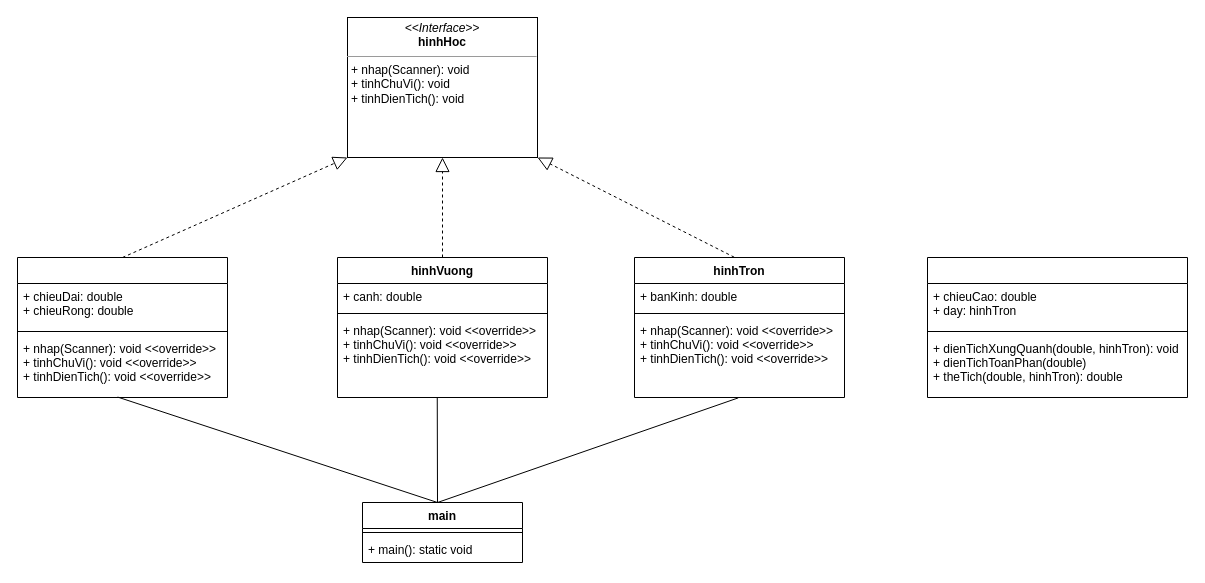
Image size: 1205x583. Some labels were removed from this diagram. Here are the shapes that lost their labels. From the top down, the box of each, then its label:
(16, 256, 228, 398): hinhChuNhat
(926, 256, 1188, 398): hinhTru
